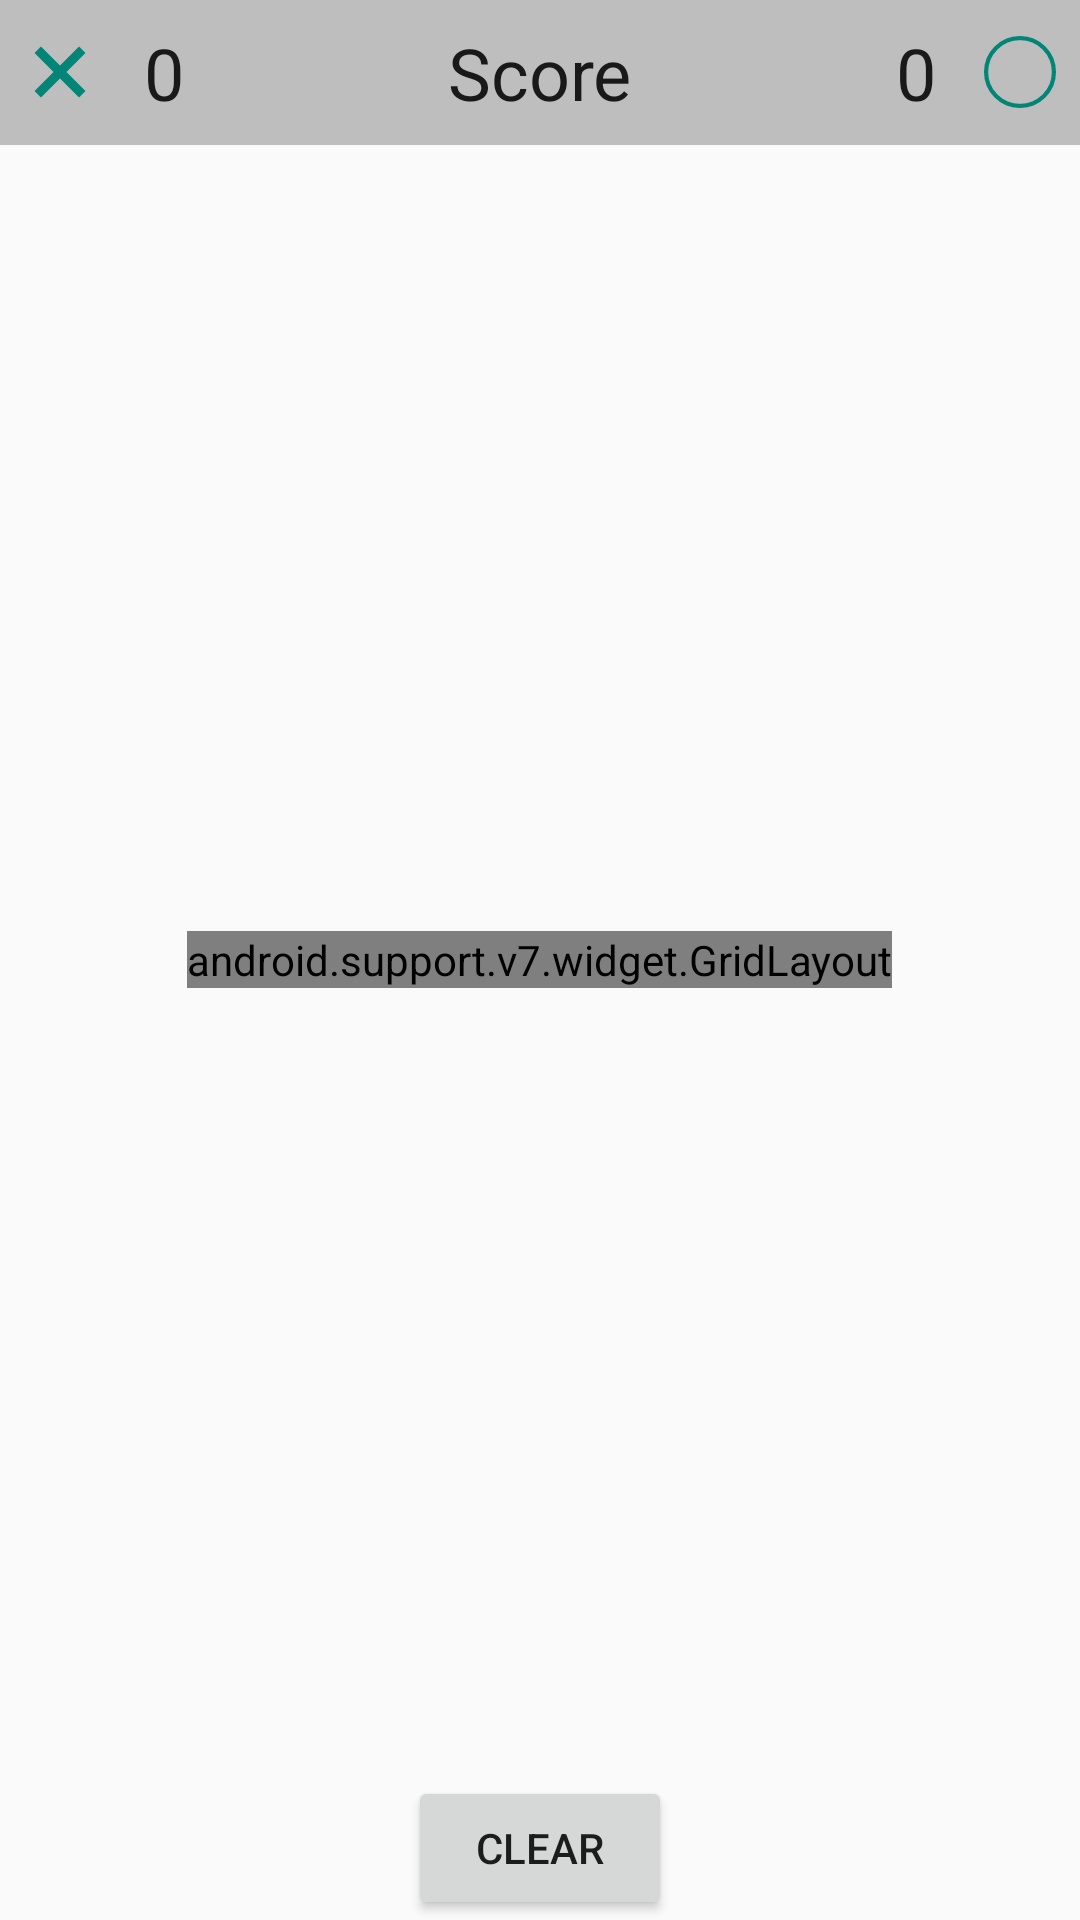

Locate icon controls on the screen. Image size 1080 x 1920, boxes as (x1,y1,x2,y2).
circle: (984,36,1056,108)
cross: (35,46,85,98)
